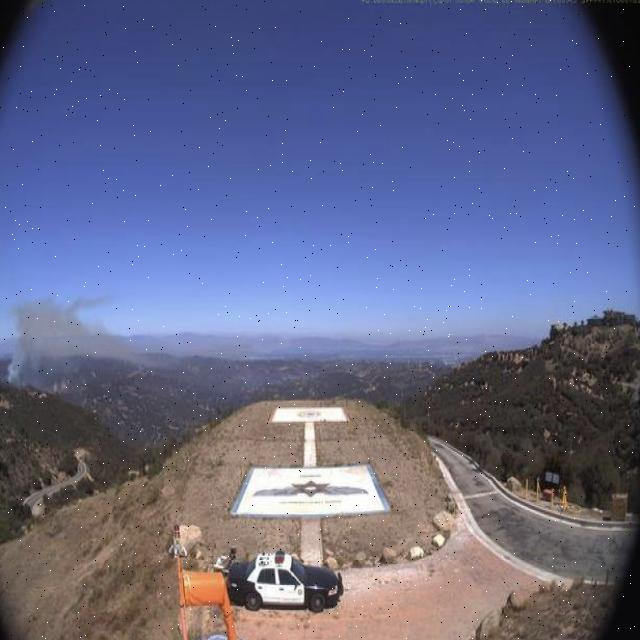smoke: (0, 288, 137, 394)
